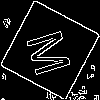M: (25, 25, 82, 79)
